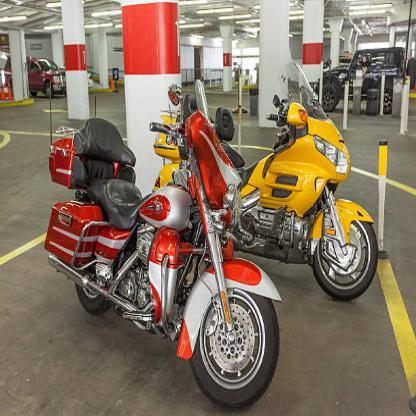Motorcycle: (39, 92, 283, 411), (234, 66, 379, 307)
